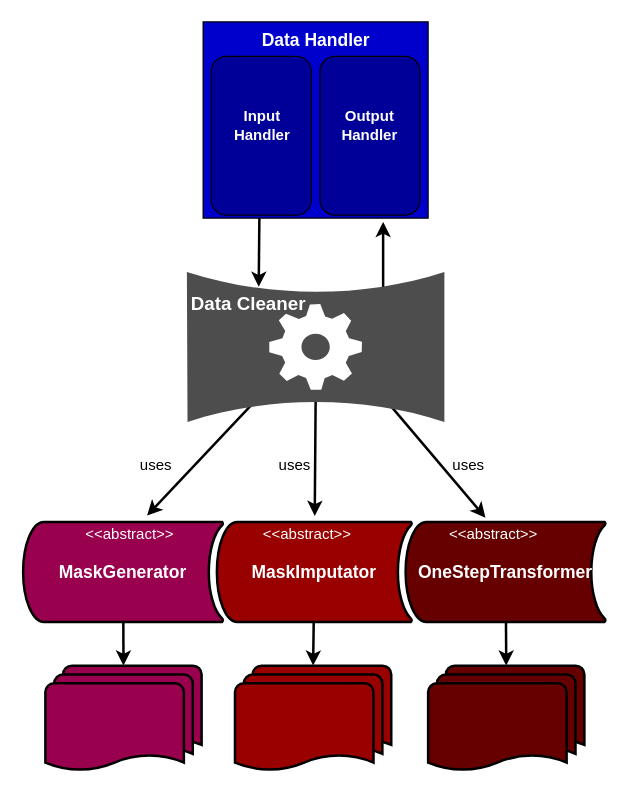
Image size: 628x795. Some labels were removed from this diagram. The shapes that lost their labels are listed below. From the top down, each one's centre as x and y in pixels, then its label:
At (123,718): "MG implementations".
At (312,718): "MI implementations".
At (505,718): "OST implementations".
